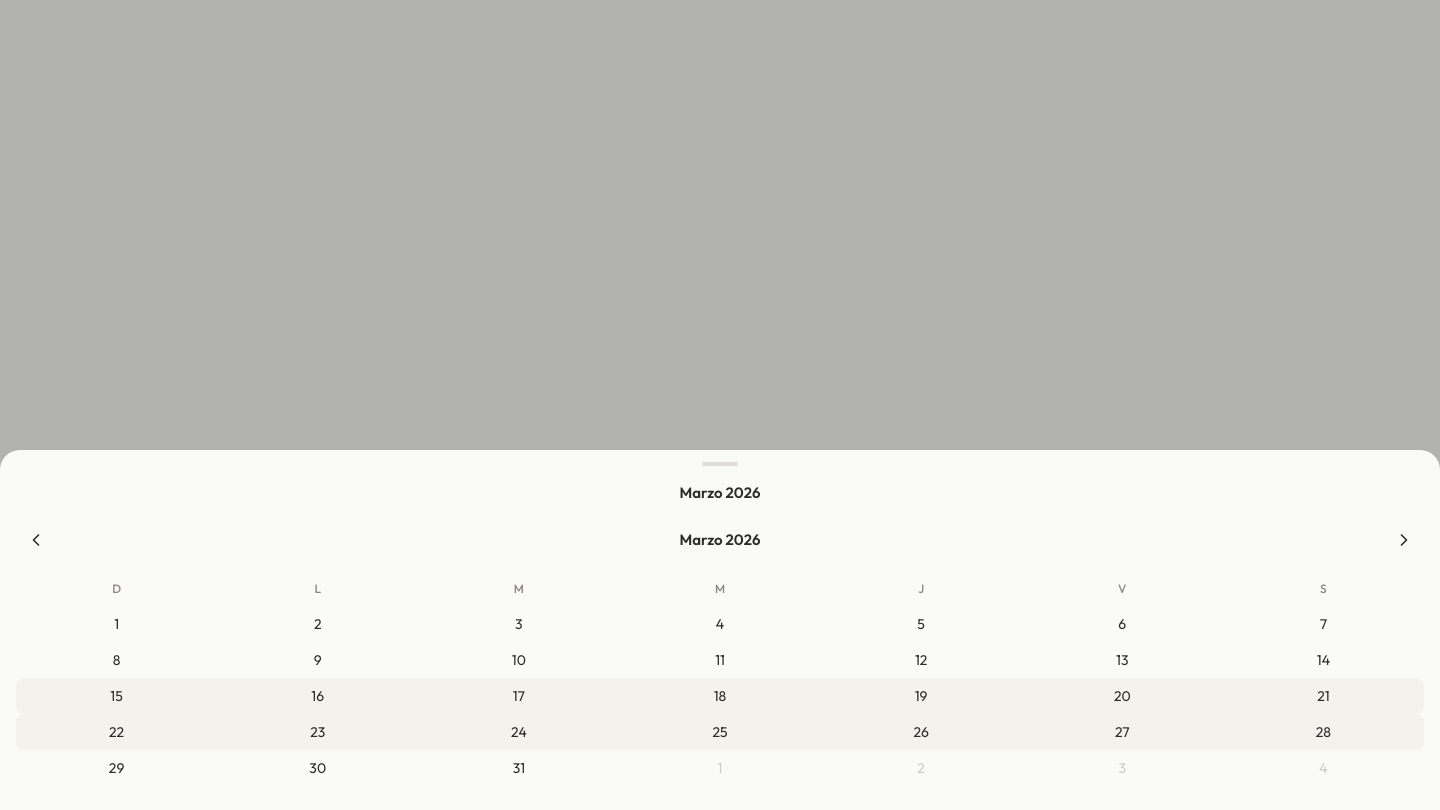
Test: WeekCalendarModal › next month button changes displayed month to April 2026
The width and height of the screenshot is (1440, 810).
Click the button named "Mes siguiente" at (1404, 540), box [1384, 520, 1424, 560]
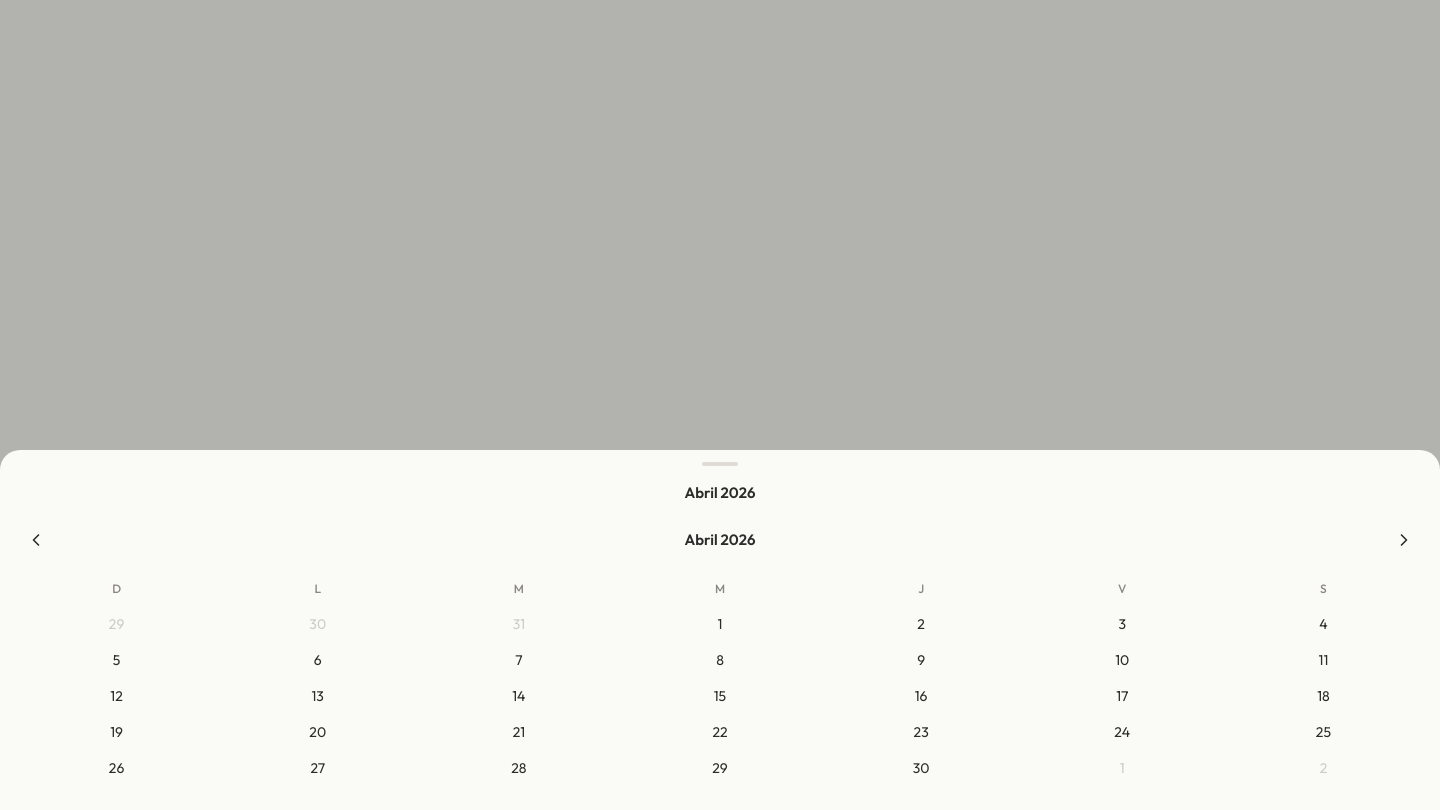
Now the 1st text "Abril 2026" is shown, box [684, 482, 756, 502]
